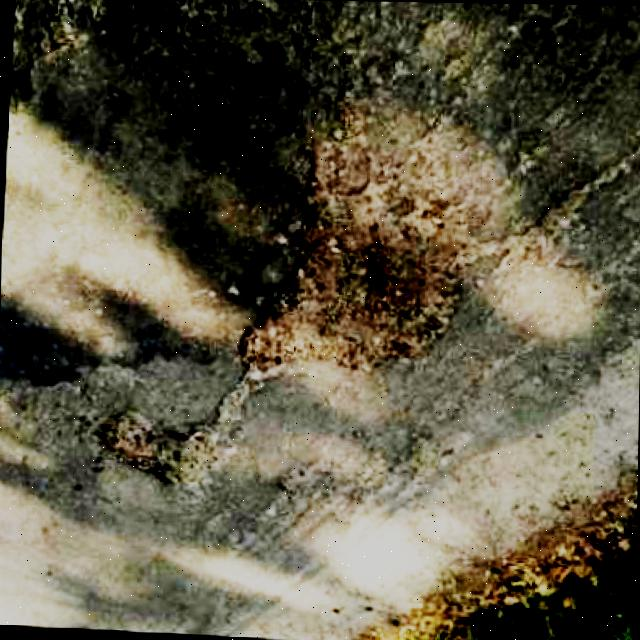pothole: (239, 92, 486, 382), (101, 406, 224, 492)
